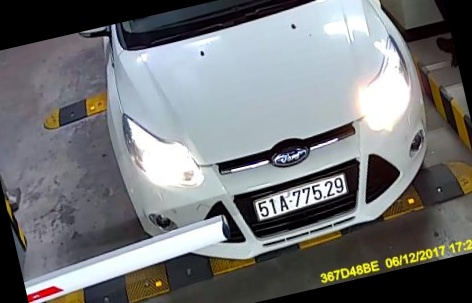plate: (253, 172, 348, 231)
